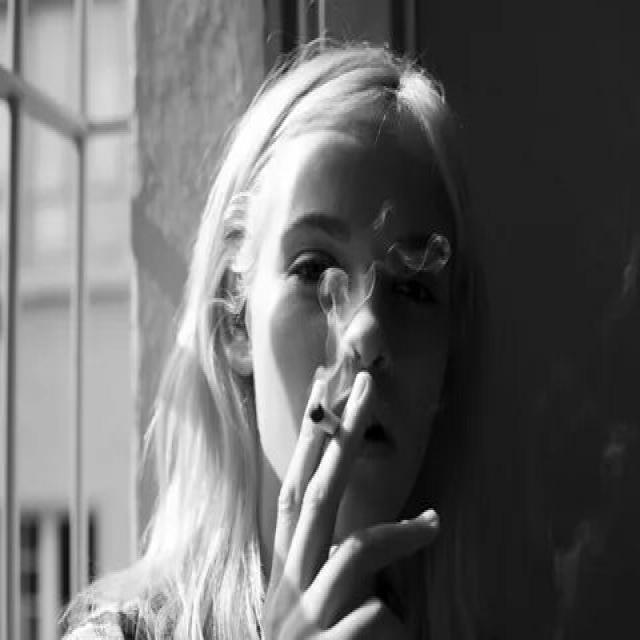cigarette: (305, 396, 351, 442)
